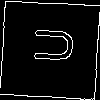U: (24, 25, 74, 65)
